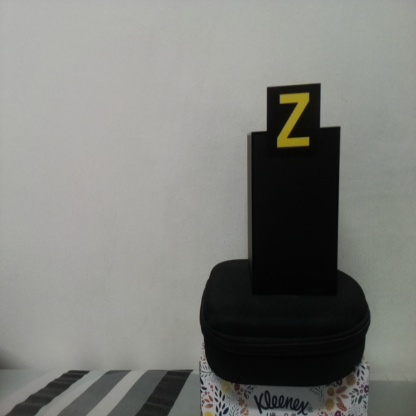id_15: (267, 87, 320, 157)
